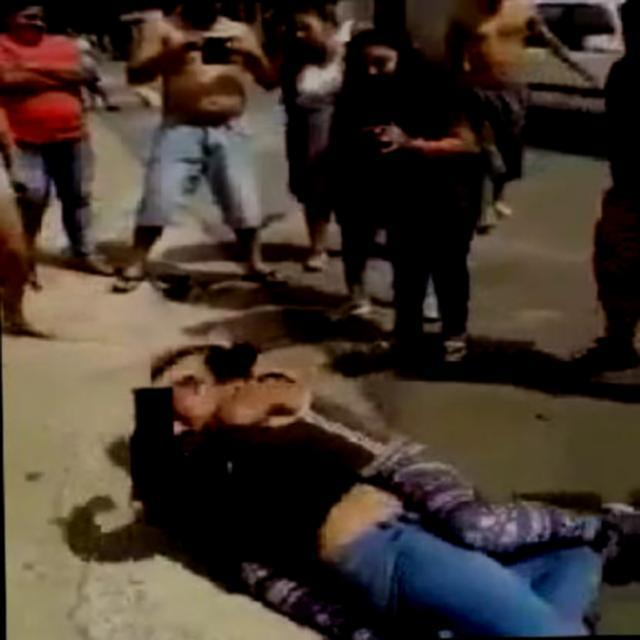fight: (126, 336, 634, 638)
non-fight: (328, 27, 494, 361)
